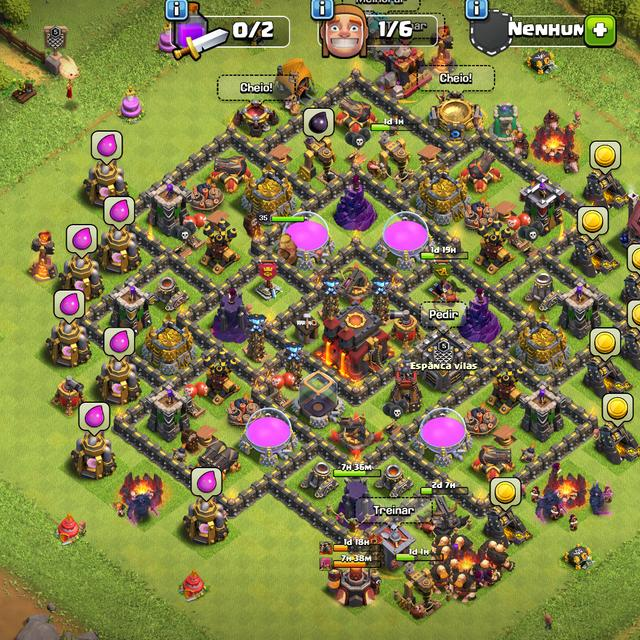Elixir: (92, 130, 123, 165), (66, 223, 96, 259), (55, 290, 86, 324), (79, 402, 110, 436), (192, 467, 223, 501), (105, 197, 135, 232), (105, 328, 135, 362)
ElixirNegro: (304, 108, 335, 142)
coin: (578, 207, 610, 242), (602, 393, 634, 428), (491, 476, 522, 511), (590, 141, 621, 175), (590, 327, 620, 362), (628, 244, 640, 274), (628, 299, 640, 329)
